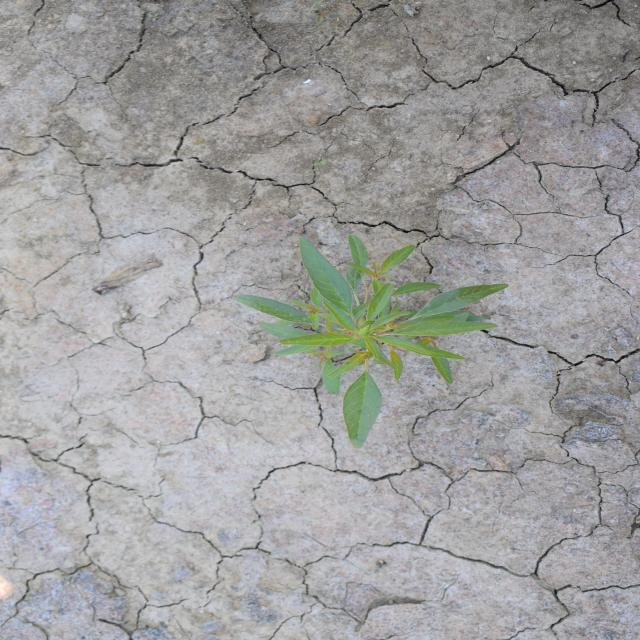Waterhemp: (230, 233, 511, 450)
